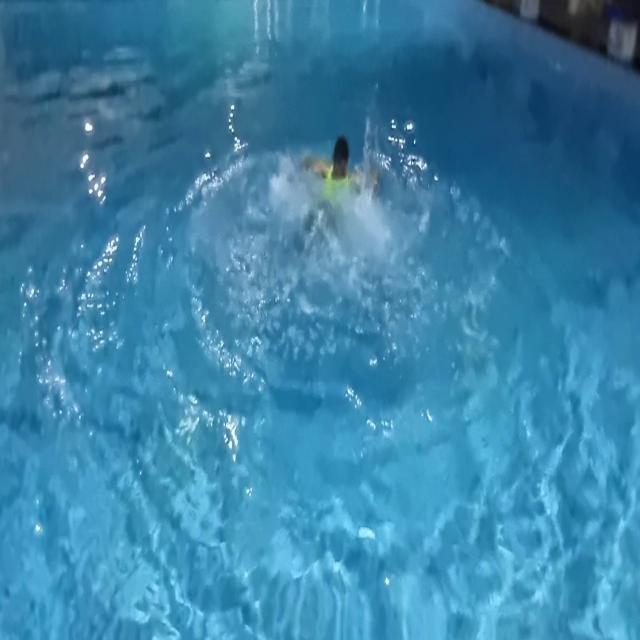Drowning: (261, 88, 422, 278)
